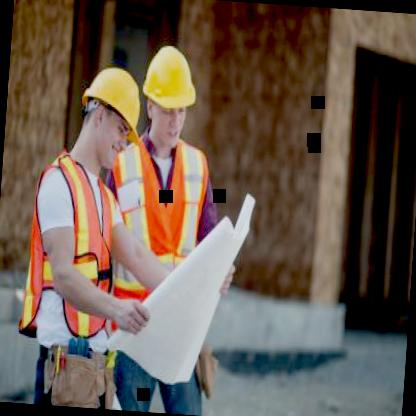helmet: (136, 33, 207, 167), (70, 50, 146, 172)
